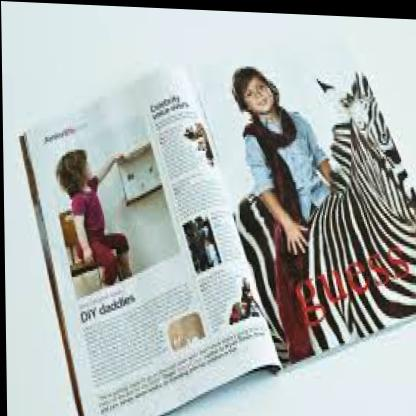Paper: (12, 13, 416, 416)
